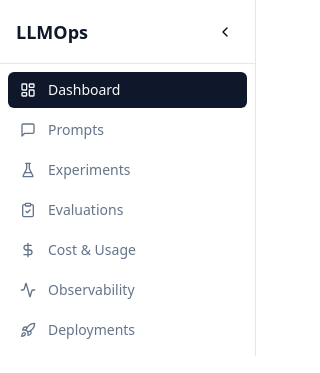
Test: Sidebar › toggles collapse on button click
The image size is (320, 373).
expect the text "Dashboard" is shown: met, box [48,80,120,100]
Click the button.
click(225, 32)  # box [211,18,239,46]
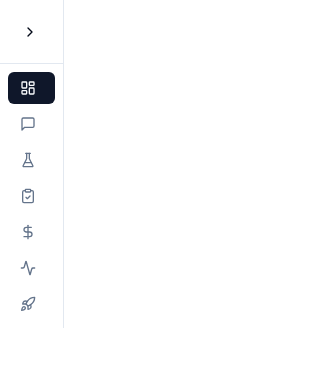
expect the text "Dashboard" is gone: met
